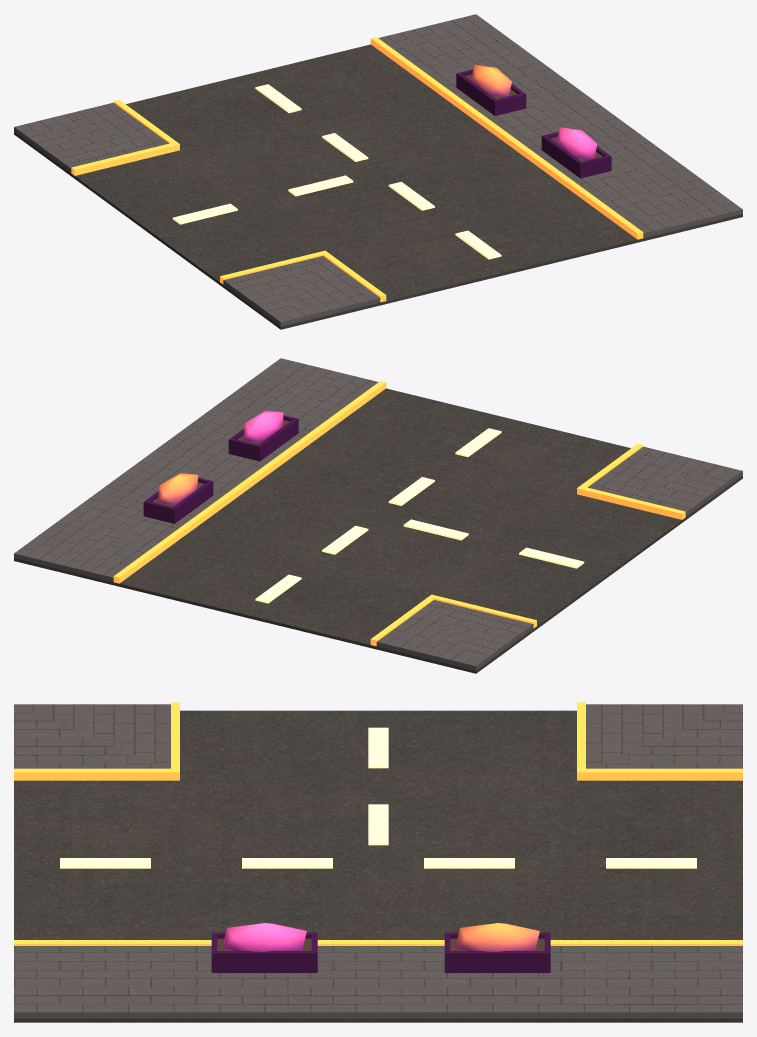
File: intersection3.glb
The picture shows the model from 3 angles, top to bottom: view 1: azimuth 30°, elevation 25°; view 2: azimuth 150°, elevation 25°; view 3: azimuth 270°, elevation 25°; orthographic projection. The views are drawn at different scales.
Visible parts, largest first — view 1: Intersection3; view 2: Intersection3; view 3: Intersection3.
Part boxes in pixels (x1,y1,x2,y2): Intersection3: (14, 14, 742, 329); Intersection3: (14, 358, 742, 673); Intersection3: (14, 702, 742, 1022).
Size of what is drawn, in the model's own units: 3.2 by 0.2426 by 3.2.
Materials: 4 (4 with a texture image).
